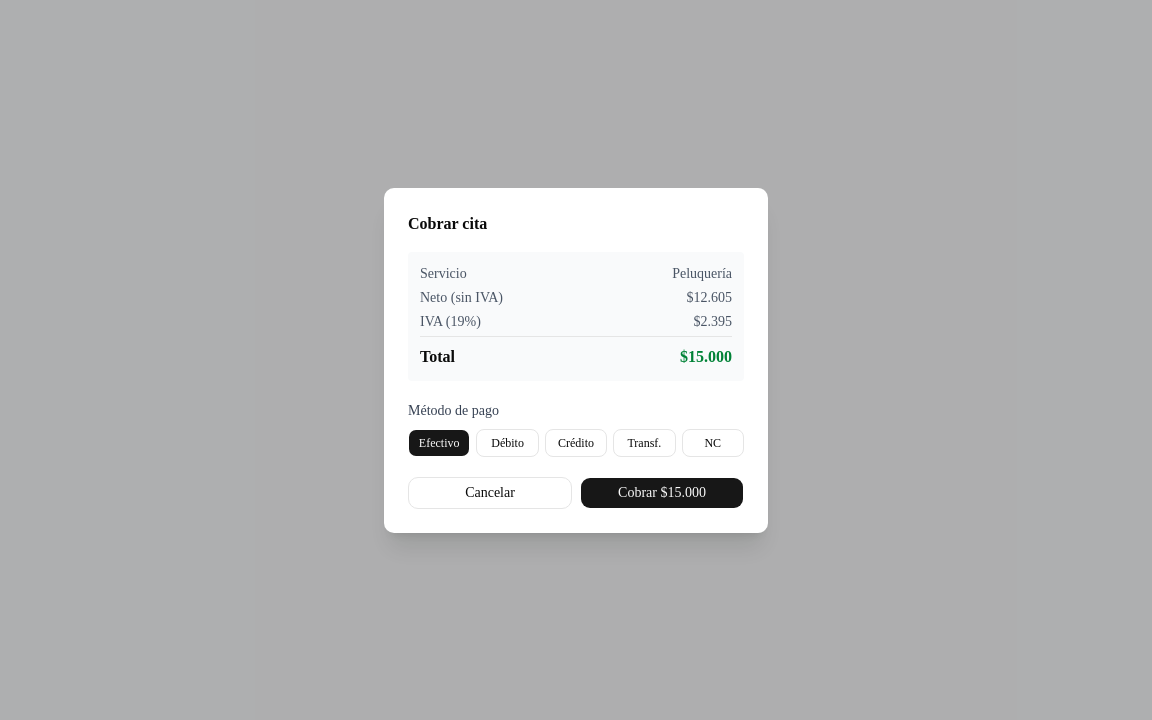
Test: ModalCobroCita (COB-XX) › COB-03: débito SIN número de transacción mantiene 'Cobrar' deshabilitado
Click the button "Débito".
click(508, 442)  # box [476,428,539,456]
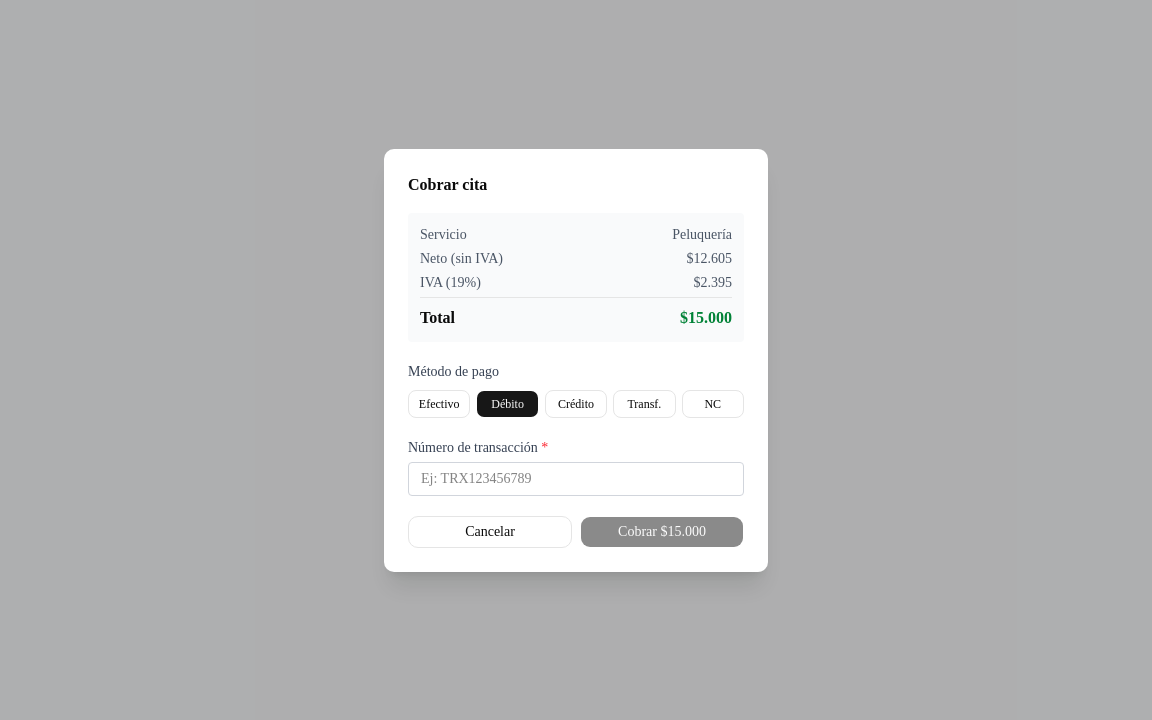
Expected: the button "Cobrar $15.000" is disabled, [580,516,744,548]
Type "TRX-1" into the field with placeholder "Ej: TRX123456789".
click(576, 478); type("TRX-1")  # box [408,462,744,496]
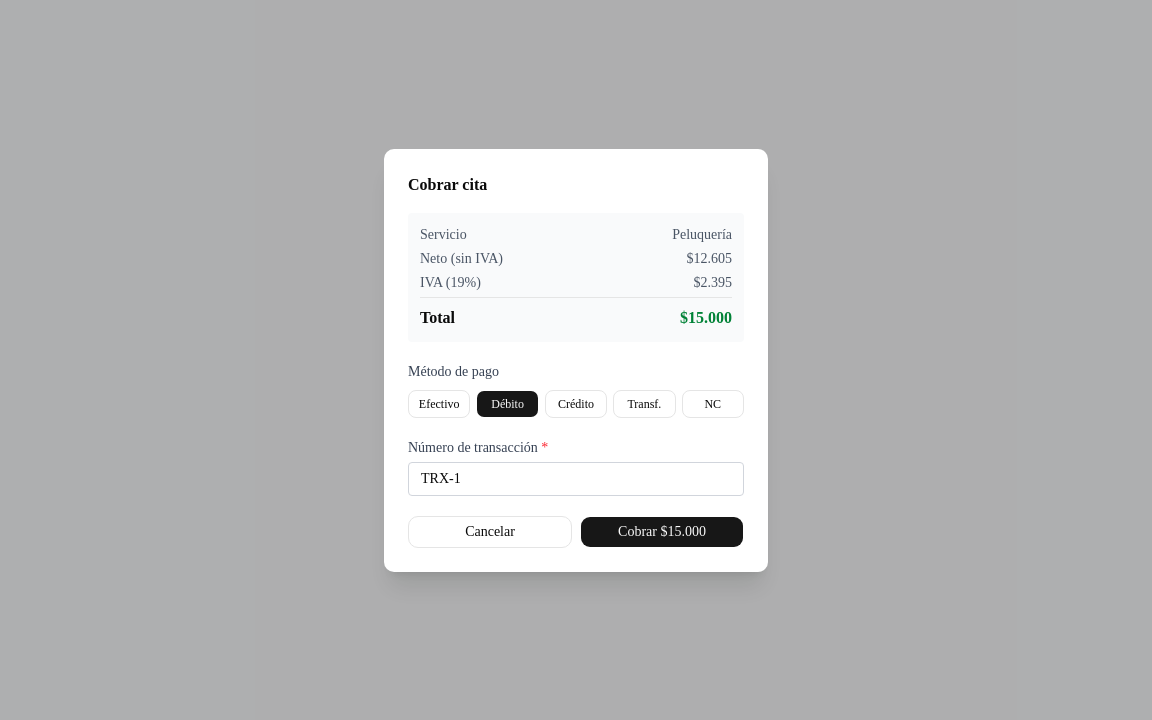
Expected: the button "Cobrar $15.000" is enabled, [580,516,744,548]
